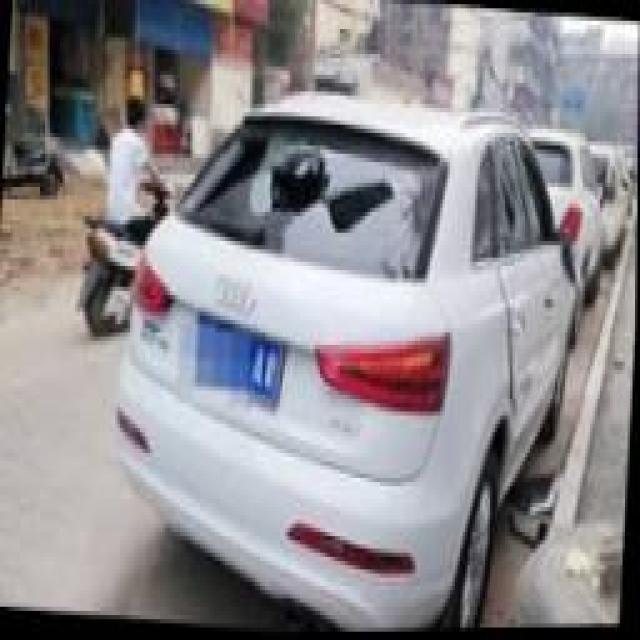Windshield: (175, 124, 445, 282)
